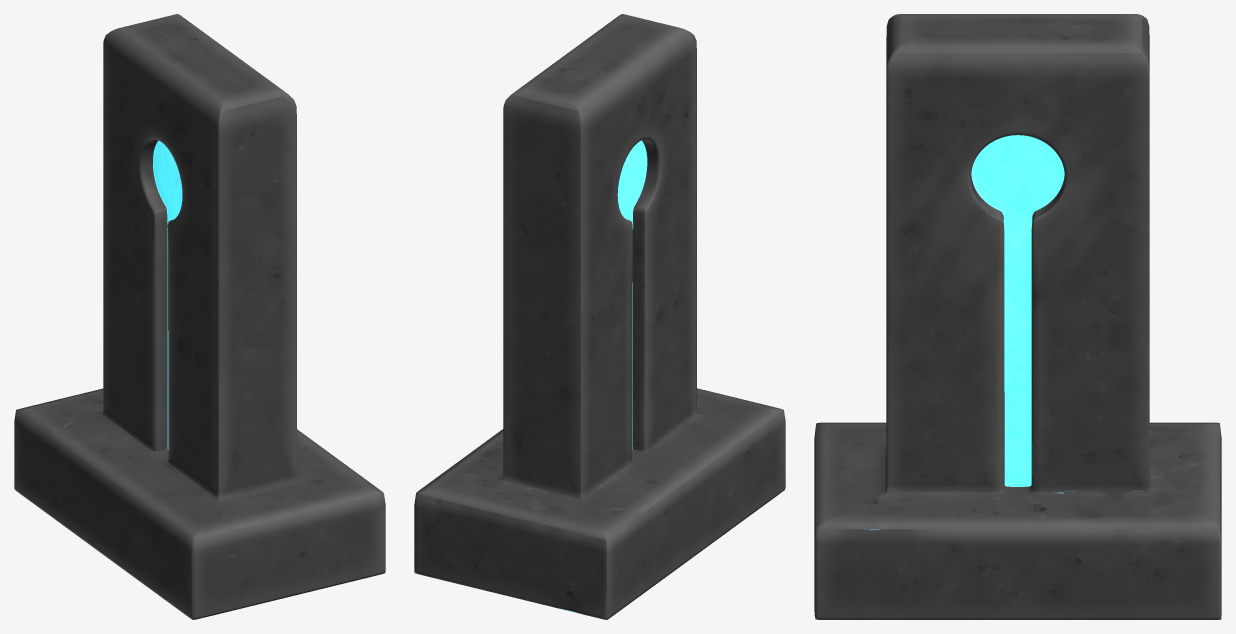
The model's file is ruin.fbx.
The picture shows the model from 3 angles, left to right: view 1: azimuth 30°, elevation 25°; view 2: azimuth 150°, elevation 25°; view 3: azimuth 270°, elevation 25°; orthographic projection. The views are drawn at different scales.
Visible parts, largest first — view 1: lowPoly; view 2: lowPoly; view 3: lowPoly.
Part boxes in pixels (x1,y1,x2,y2): lowPoly: (14, 14, 385, 619); lowPoly: (414, 14, 785, 619); lowPoly: (814, 14, 1221, 619).
Size of the model in its own units: 104 by 243 by 167.
